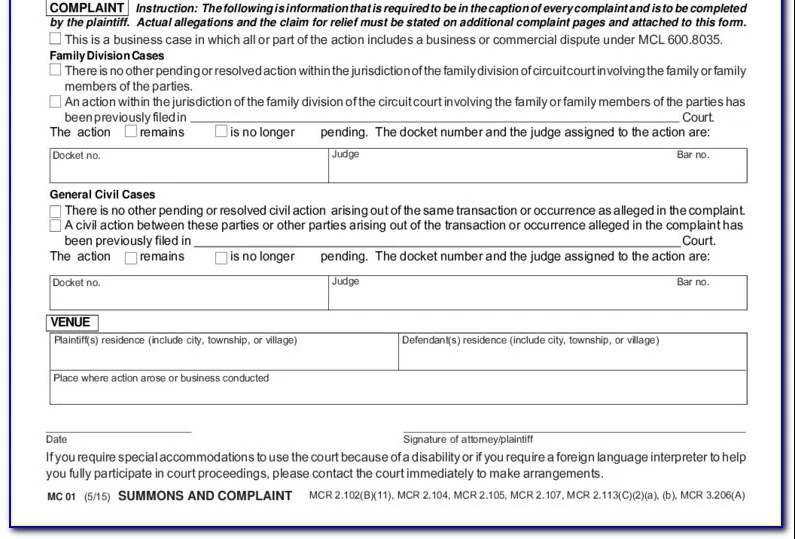checkbox: (124, 250, 139, 269), (214, 249, 229, 268), (46, 30, 63, 46), (46, 61, 63, 77), (46, 93, 63, 109), (122, 123, 139, 139), (212, 123, 229, 139), (49, 204, 62, 218), (48, 218, 61, 232)
textbox: (45, 365, 752, 410), (320, 145, 750, 187), (324, 272, 754, 314), (47, 330, 401, 374), (397, 330, 751, 374), (47, 146, 332, 187), (47, 272, 332, 313)
textline: (188, 107, 681, 125), (190, 233, 683, 251), (399, 418, 748, 436), (43, 418, 195, 437)
